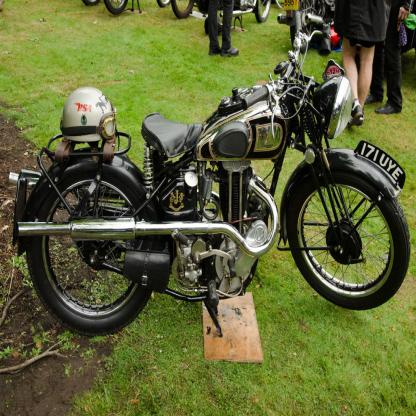Helmet: (58, 91, 114, 145)
